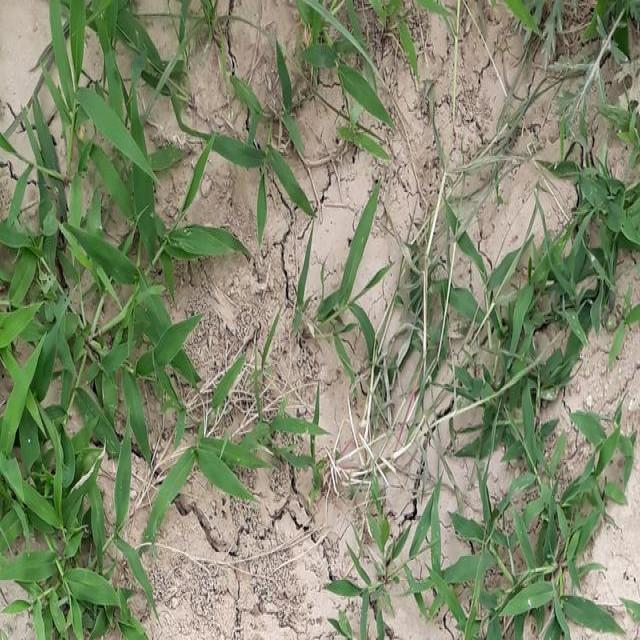weed: (10, 74, 136, 604), (175, 10, 378, 176), (471, 425, 612, 640), (128, 368, 314, 508), (466, 236, 580, 440), (329, 202, 396, 368)
